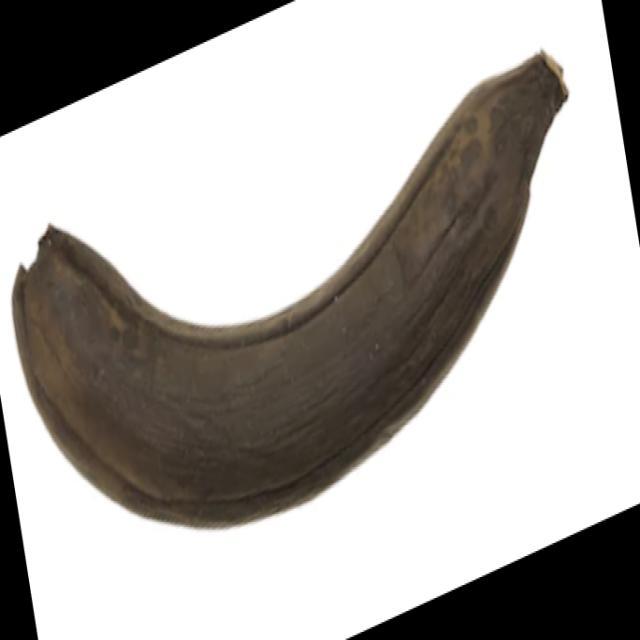Rotten: (12, 49, 567, 526)
